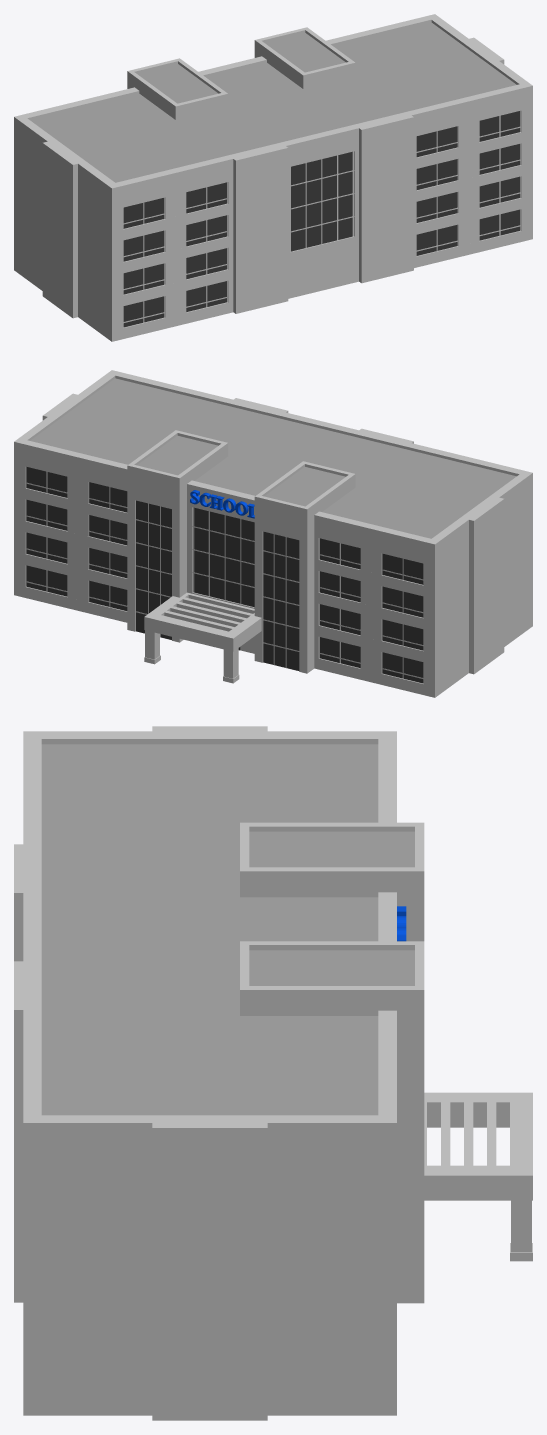
Rendered from SPW_Urban_Bldg_12.gltf.
3 views of the same model, one above another, from view 1: azimuth 30°, elevation 25°; view 2: azimuth 150°, elevation 25°; view 3: azimuth 270°, elevation 25° (orthographic). The views are drawn at different scales.
Parts seen in each view (by area): view 1: SPW_Urban_Bldg_12; view 2: SPW_Urban_Bldg_12, SPW_Urban_Text_School; view 3: SPW_Urban_Bldg_12.
Part boxes in pixels (x1,y1,x2,y2): SPW_Urban_Bldg_12: (14, 14, 532, 341); SPW_Urban_Bldg_12: (14, 370, 532, 697); SPW_Urban_Text_School: (190, 490, 254, 518); SPW_Urban_Bldg_12: (14, 726, 532, 1420).
Size of the model in its own units: 41.2 by 15 by 22.5.
2 materials, 1 textured.
